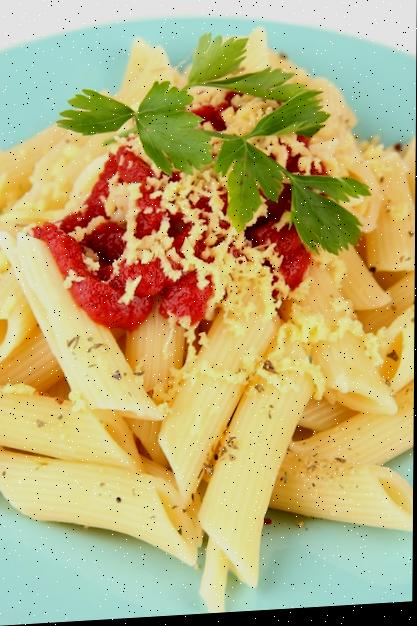pasta: (145, 213, 380, 512)
